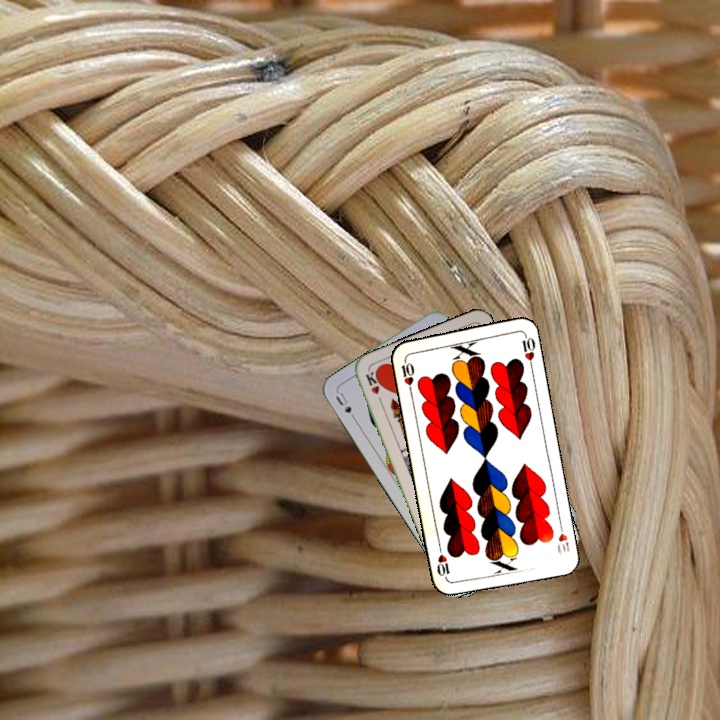H10: (397, 354, 417, 394), (553, 517, 572, 557)
HK: (362, 367, 385, 407)
SU: (331, 388, 360, 425)
